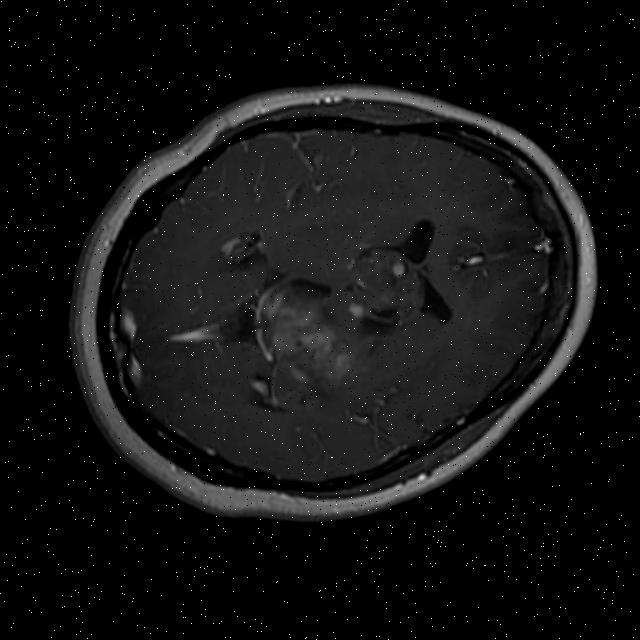Glioma: (250, 272, 359, 407), (338, 238, 428, 337)
